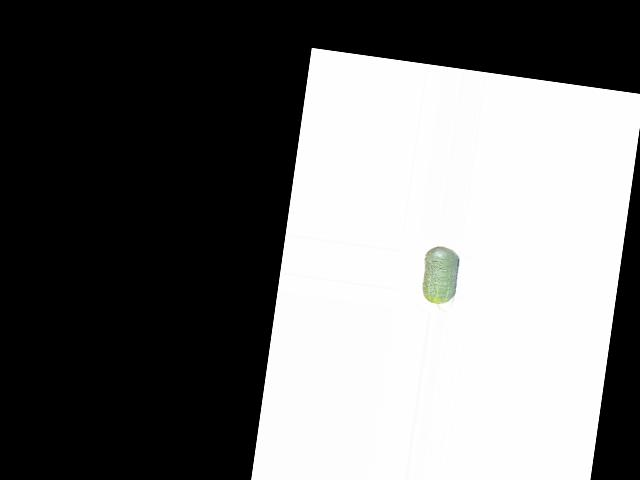cucumber: (418, 244, 461, 312)
